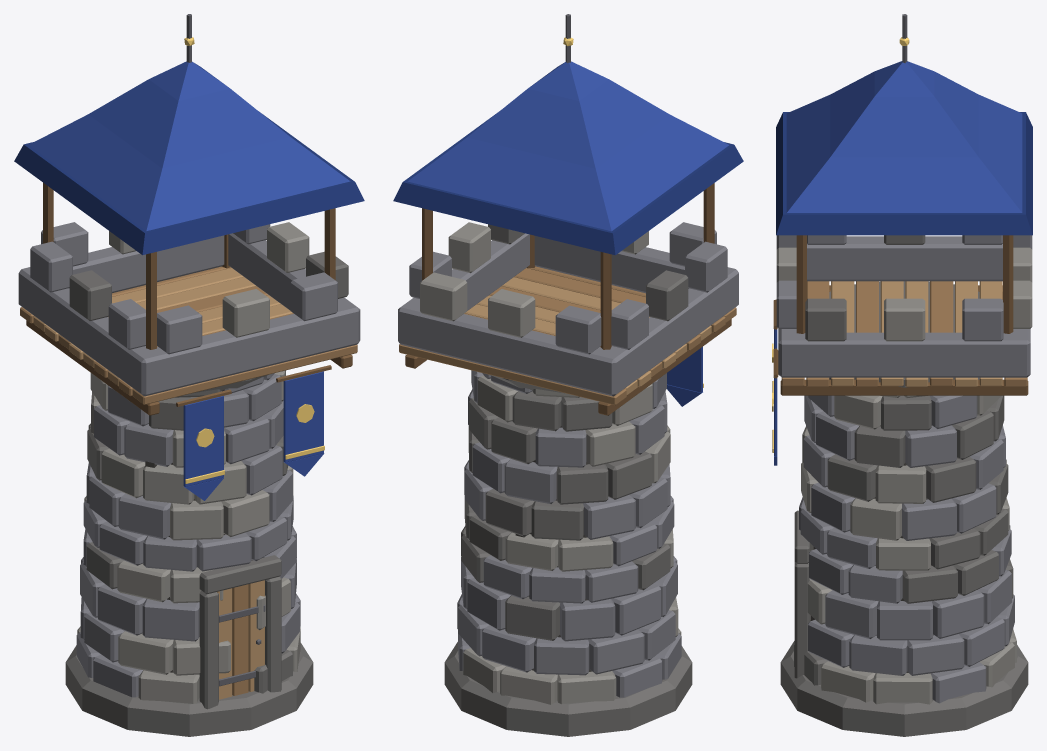
Rendered from archer_tower_3.glb.
3 renders of one model, left to right at view 1: azimuth 30°, elevation 25°; view 2: azimuth 150°, elevation 25°; view 3: azimuth 270°, elevation 25°, orthographic.
Parts seen in each view (by area): view 1: ArcherTower; view 2: ArcherTower; view 3: ArcherTower.
Part boxes in pixels (box(x1,y1,x2,y2)): ArcherTower: box(14, 14, 364, 736); ArcherTower: box(393, 14, 743, 736); ArcherTower: box(772, 14, 1032, 736).
Bounding box in the file's own units: 3.11 × 8.95 × 3.16.
